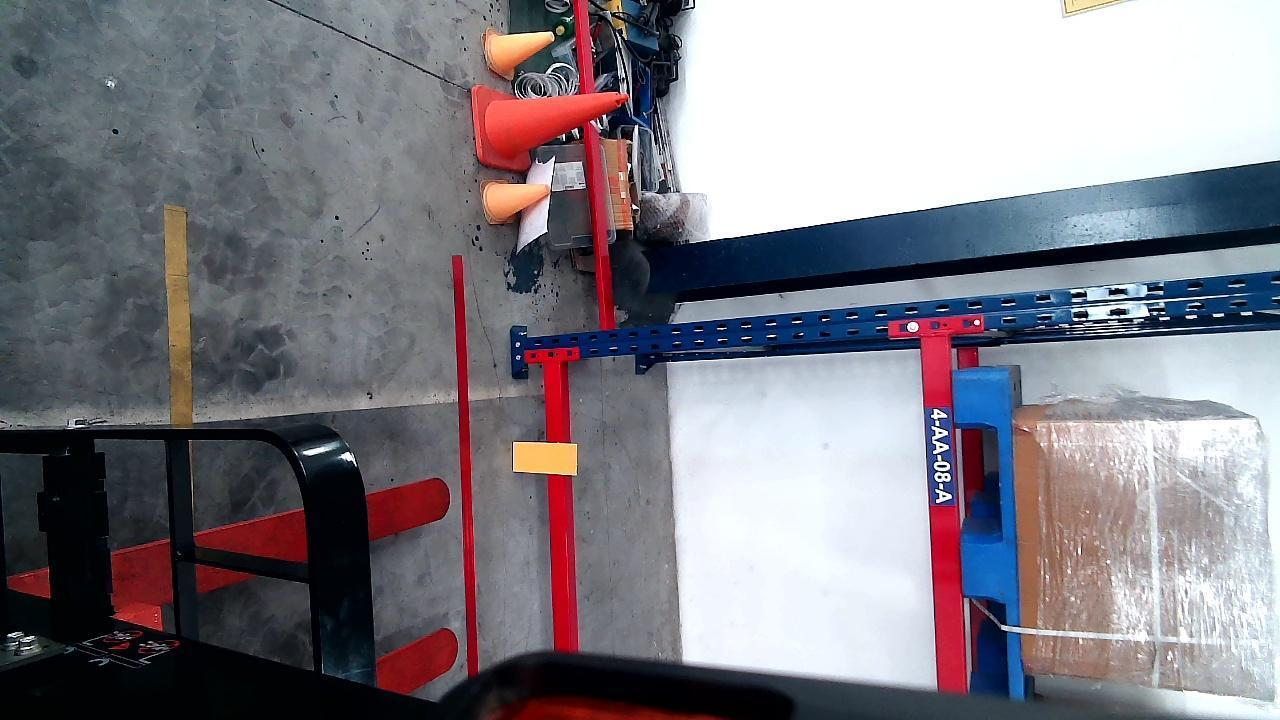h_rack: (923, 338, 967, 689), (545, 358, 573, 649)
orange_strip: (514, 442, 577, 475)
red_line: (455, 260, 477, 669)
small_pallet: (955, 368, 1022, 693)
yellow_line: (166, 197, 194, 425)
